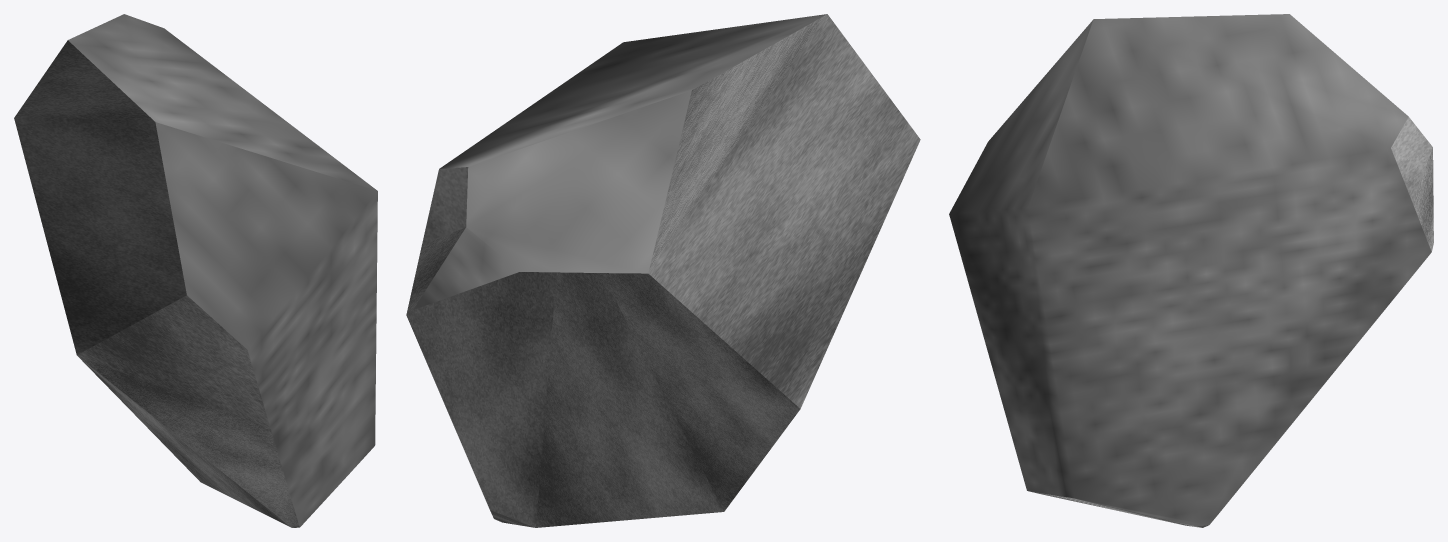
The model's file is leg_4_cell_001.fbx.
3 views of the same model, side by side, from view 1: azimuth 30°, elevation 25°; view 2: azimuth 150°, elevation 25°; view 3: azimuth 270°, elevation 25° (orthographic). The views are drawn at different scales.
Visible parts, largest first — view 1: leg_4_cell.001; view 2: leg_4_cell.001; view 3: leg_4_cell.001.
Boxes of the visible parts, x1,y1,x2,y2 form: leg_4_cell.001: [14, 14, 377, 527]; leg_4_cell.001: [406, 14, 920, 527]; leg_4_cell.001: [949, 14, 1433, 527].
Bounding box in the file's own units: 19.61 × 33.05 × 33.8.
